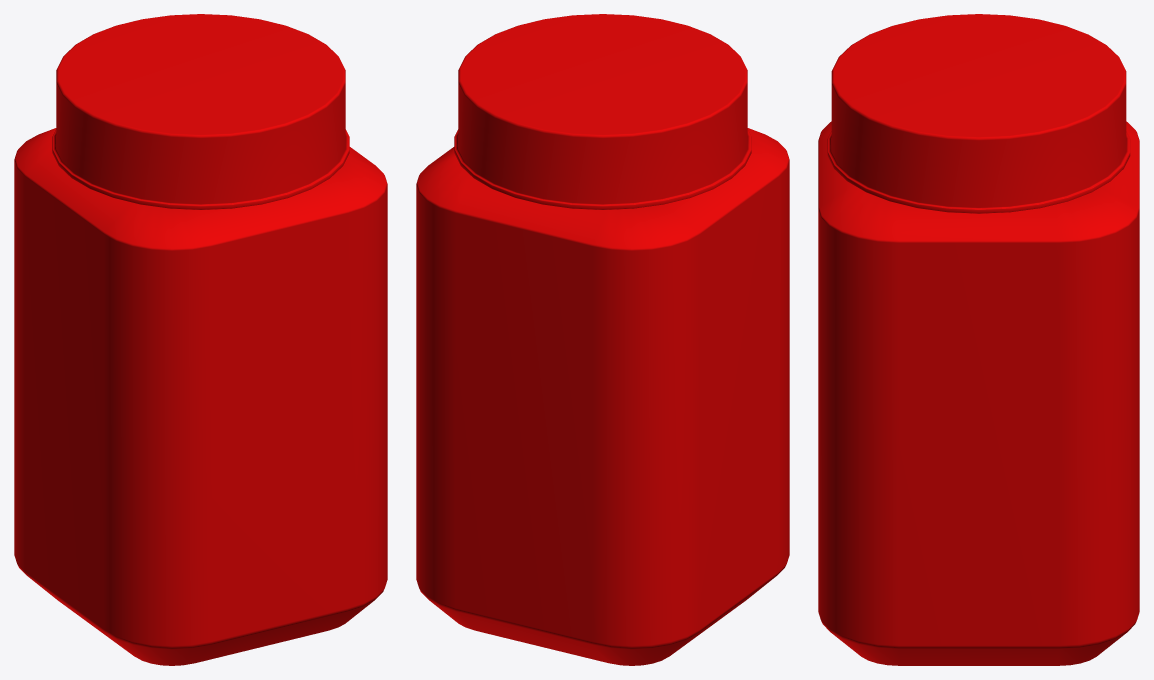
The model's file is Package_13.fbx.
The picture shows the model from 3 angles, left to right: view 1: azimuth 30°, elevation 25°; view 2: azimuth 150°, elevation 25°; view 3: azimuth 270°, elevation 25°; orthographic projection.
Parts seen in each view (by area): view 1: L15:pCylinder8; view 2: L15:pCylinder8; view 3: L15:pCylinder8.
Boxes of the visible parts, box(x1,y1,x2,y2) form: L15:pCylinder8: box(14, 14, 387, 665); L15:pCylinder8: box(416, 14, 789, 665); L15:pCylinder8: box(818, 14, 1139, 665).
Size of the model in its own units: 12.75 by 23.65 by 12.75.
